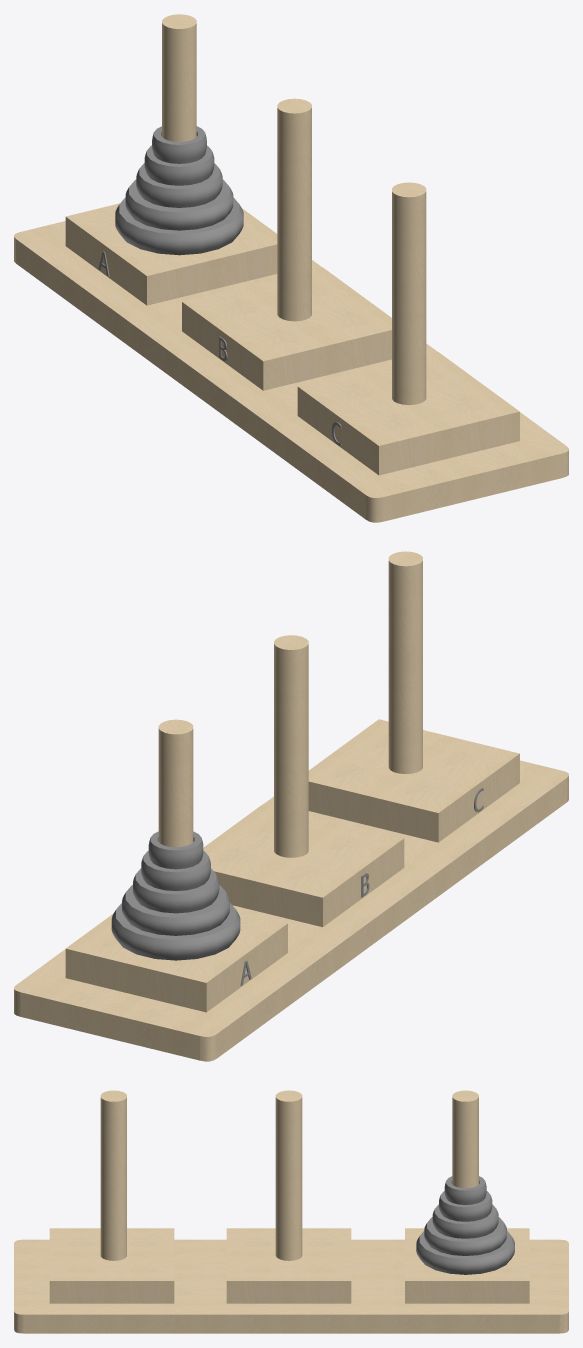
Rendered from hannuota.FBX.
3 renders of one model, top to bottom at view 1: azimuth 30°, elevation 25°; view 2: azimuth 150°, elevation 25°; view 3: azimuth 270°, elevation 25°, orthographic. The views are drawn at different scales.
Visible parts, largest first — view 1: di, Box005, Box004, Box003, 5, 4, 3, 2, 1; view 2: di, Box005, Box004, Box003, 5, 4, 3, 2, 1; view 3: di, Box004, Box005, Box003, 5, 4, 3, 2, 1.
Part boxes in pixels (box(x1,y1,x2,y2)): di: box(14, 14, 568, 522); Box005: box(297, 352, 519, 475); Box004: box(182, 267, 391, 390); Box003: box(65, 203, 277, 305); 5: box(115, 197, 243, 255); 4: box(125, 179, 233, 230); 3: box(136, 163, 222, 207); 2: box(144, 145, 214, 185); 1: box(152, 126, 206, 163); di: box(14, 551, 568, 1061); Box005: box(308, 719, 519, 842); Box004: box(203, 804, 404, 927); Box003: box(65, 911, 287, 1012); 5: box(111, 903, 240, 960); 4: box(122, 885, 229, 935); 3: box(133, 868, 219, 913); 2: box(141, 851, 210, 890); 1: box(148, 831, 203, 869); di: box(14, 1090, 568, 1333); Box004: box(226, 1228, 351, 1303); Box005: box(49, 1228, 174, 1303); Box003: box(405, 1228, 529, 1303); 5: box(416, 1231, 514, 1274); 4: box(424, 1217, 506, 1255); 3: box(432, 1204, 498, 1238); 2: box(439, 1191, 492, 1221); 1: box(444, 1176, 486, 1204).
Bounding box in the file's own units: 56.95 × 71.01 × 178.
Materials: 6 (1 with a texture image).
